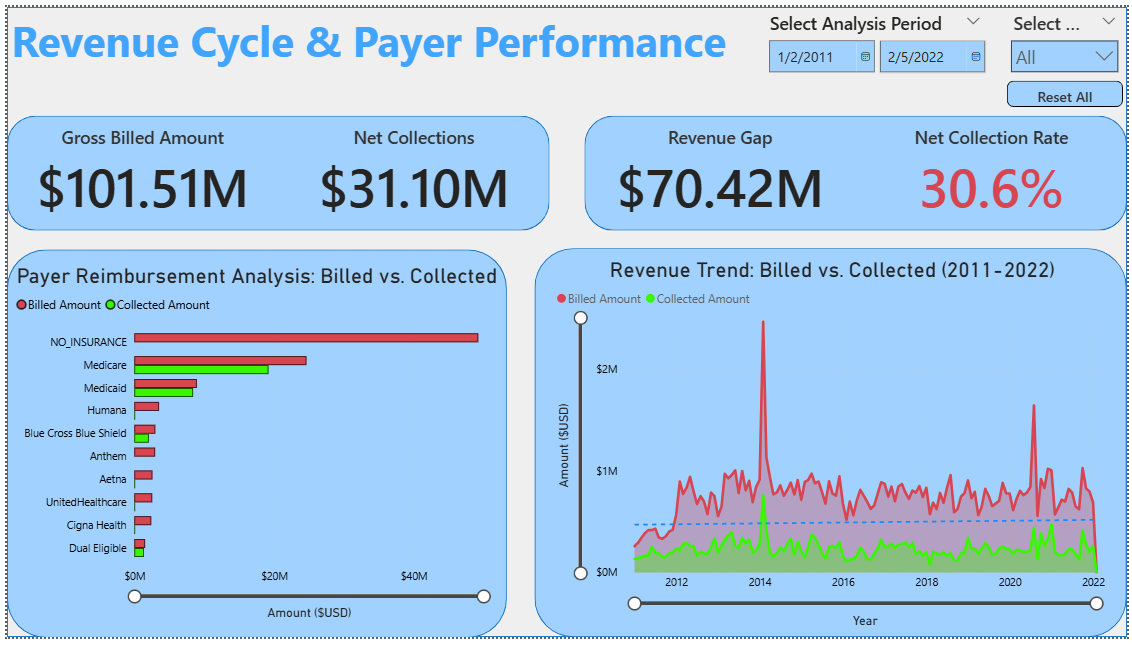

This screenshot's page, from the dashboard's own definition file:
{"tool":"powerbi","page":{"name":"Payer","canvas":[1280,720],"ordinal":0},"visuals":[{"type":"shape","box":[0,0,1280,720],"z":0},{"type":"shape","box":[0,123.8,620,131.2],"z":0,"group":"g1"},{"type":"shape","box":[603.3,275.6,676.7,444.4],"z":500,"group":"g1"},{"type":"group","id":"g1","title":"Background","box":[0,123.8,1280,596.2],"z":1000},{"type":"shape","box":[660,123.8,620,131.2],"z":1000,"group":"g1"},{"type":"cardVisual","title":"Gross Billed Amount","fields":{"Data":["encounters.total_claims"]},"box":[0,123.8,310,131.2],"z":2000},{"type":"shape","box":[0,276.3,571.2,443.8],"z":2000,"group":"g1"},{"type":"clusteredBarChart","title":"Payer Reimbursement Analysis: Billed vs. Collected","fields":{"Category":["payers.NAME"],"Y":["encounters.total_claims","encounters.total_collected"]},"box":[6.2,292.5,560,412.5],"z":3000},{"type":"areaChart","title":"Revenue Trend: Billed vs. Collected (2011-2022)","fields":{"Category":["encounters.START.Variation.Date Hierarchy.Year","encounters.START.Variation.Date Hierarchy.Quarter","encounters.START.Variation.Date Hierarchy.Month","encounters.START.Variation.Date Hierarchy.Day"],"Y":["encounters.total_claims","encounters.total_collected"]},"box":[622.5,285,640,427.5],"z":4000},{"type":"cardVisual","title":"Net Collection Rate","fields":{"Data":["encounters.collection_rate"]},"box":[970,123.8,310,131.2],"z":5000},{"type":"cardVisual","title":"Net Collections","fields":{"Data":["encounters.total_collected"]},"box":[310,123.8,310,131.2],"z":6000},{"type":"cardVisual","title":"Revenue Gap","fields":{"Data":["encounters.uncollected_revenue"]},"box":[660,123.8,310,131.2],"z":7000},{"type":"slicer","fields":{"Values":["encounters.ENCOUNTERCLASS"]},"box":[1137.5,0,142.5,93.8],"z":8000},{"type":"textbox","box":[0,0,842.5,85],"z":9000},{"type":"slicer","fields":{"Values":["encounters.START"]},"box":[858.8,0,266.2,151.2],"z":10000},{"type":"actionButton","box":[1142.5,85,132.5,30],"z":11000}]}

Visuals, with their boxes in screenshot pixels (x1, y1, x2, y2), scaled from the page's 1280x720 canvas onto the 1132x645 screenshot:
shape: 0,0,1131,644
shape: 0,111,548,228
shape: 534,247,1131,644
"Background" group: 0,111,1131,644
shape: 584,111,1131,228
"Gross Billed Amount" cardVisual: 0,111,274,228
shape: 0,248,505,644
"Payer Reimbursement Analysis: Billed vs. Collected" clusteredBarChart: 5,262,501,632
"Revenue Trend: Billed vs. Collected (2011-2022)" areaChart: 551,255,1117,638
"Net Collection Rate" cardVisual: 858,111,1131,228
"Net Collections" cardVisual: 274,111,548,228
"Revenue Gap" cardVisual: 584,111,858,228
slicer - encounters.ENCOUNTERCLASS: 1006,0,1131,84
textbox: 0,0,745,76
slicer - encounters.START: 760,0,995,135
actionButton: 1010,76,1128,103
